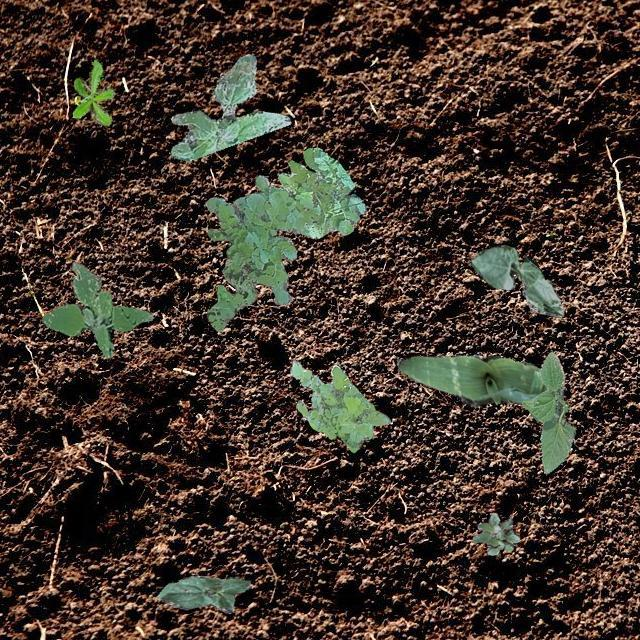crop: (396, 354, 546, 406), (520, 350, 574, 472), (470, 244, 560, 302), (156, 574, 250, 612), (522, 256, 562, 316)
weed: (204, 147, 366, 330), (170, 52, 290, 160), (41, 262, 152, 356), (290, 359, 390, 452), (72, 58, 114, 125), (472, 512, 518, 554)
